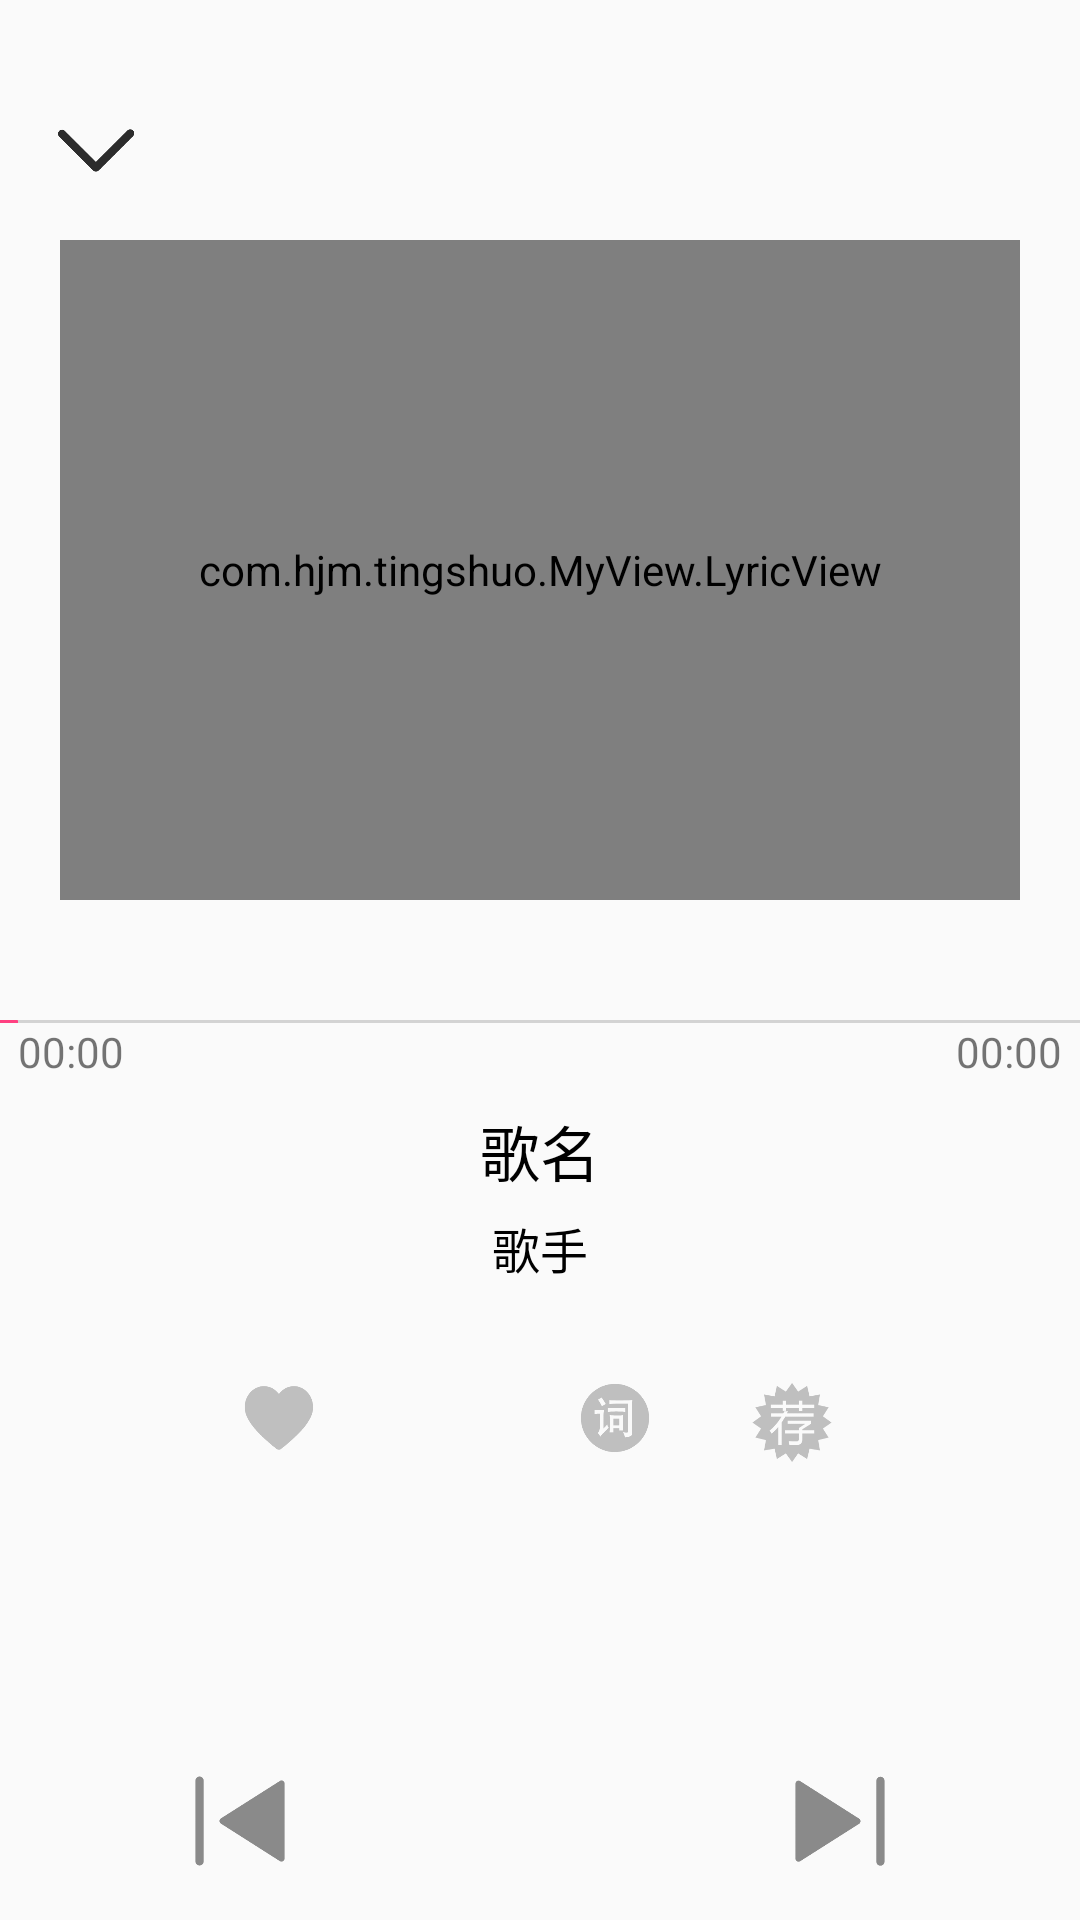

Icons on this 1080 x 1920 Android screen, each with its box as (x1, y1, x2, y2):
play next: (795, 1776, 885, 1866)
play pre: (195, 1776, 285, 1866)
song no collection: (245, 1386, 313, 1450)
